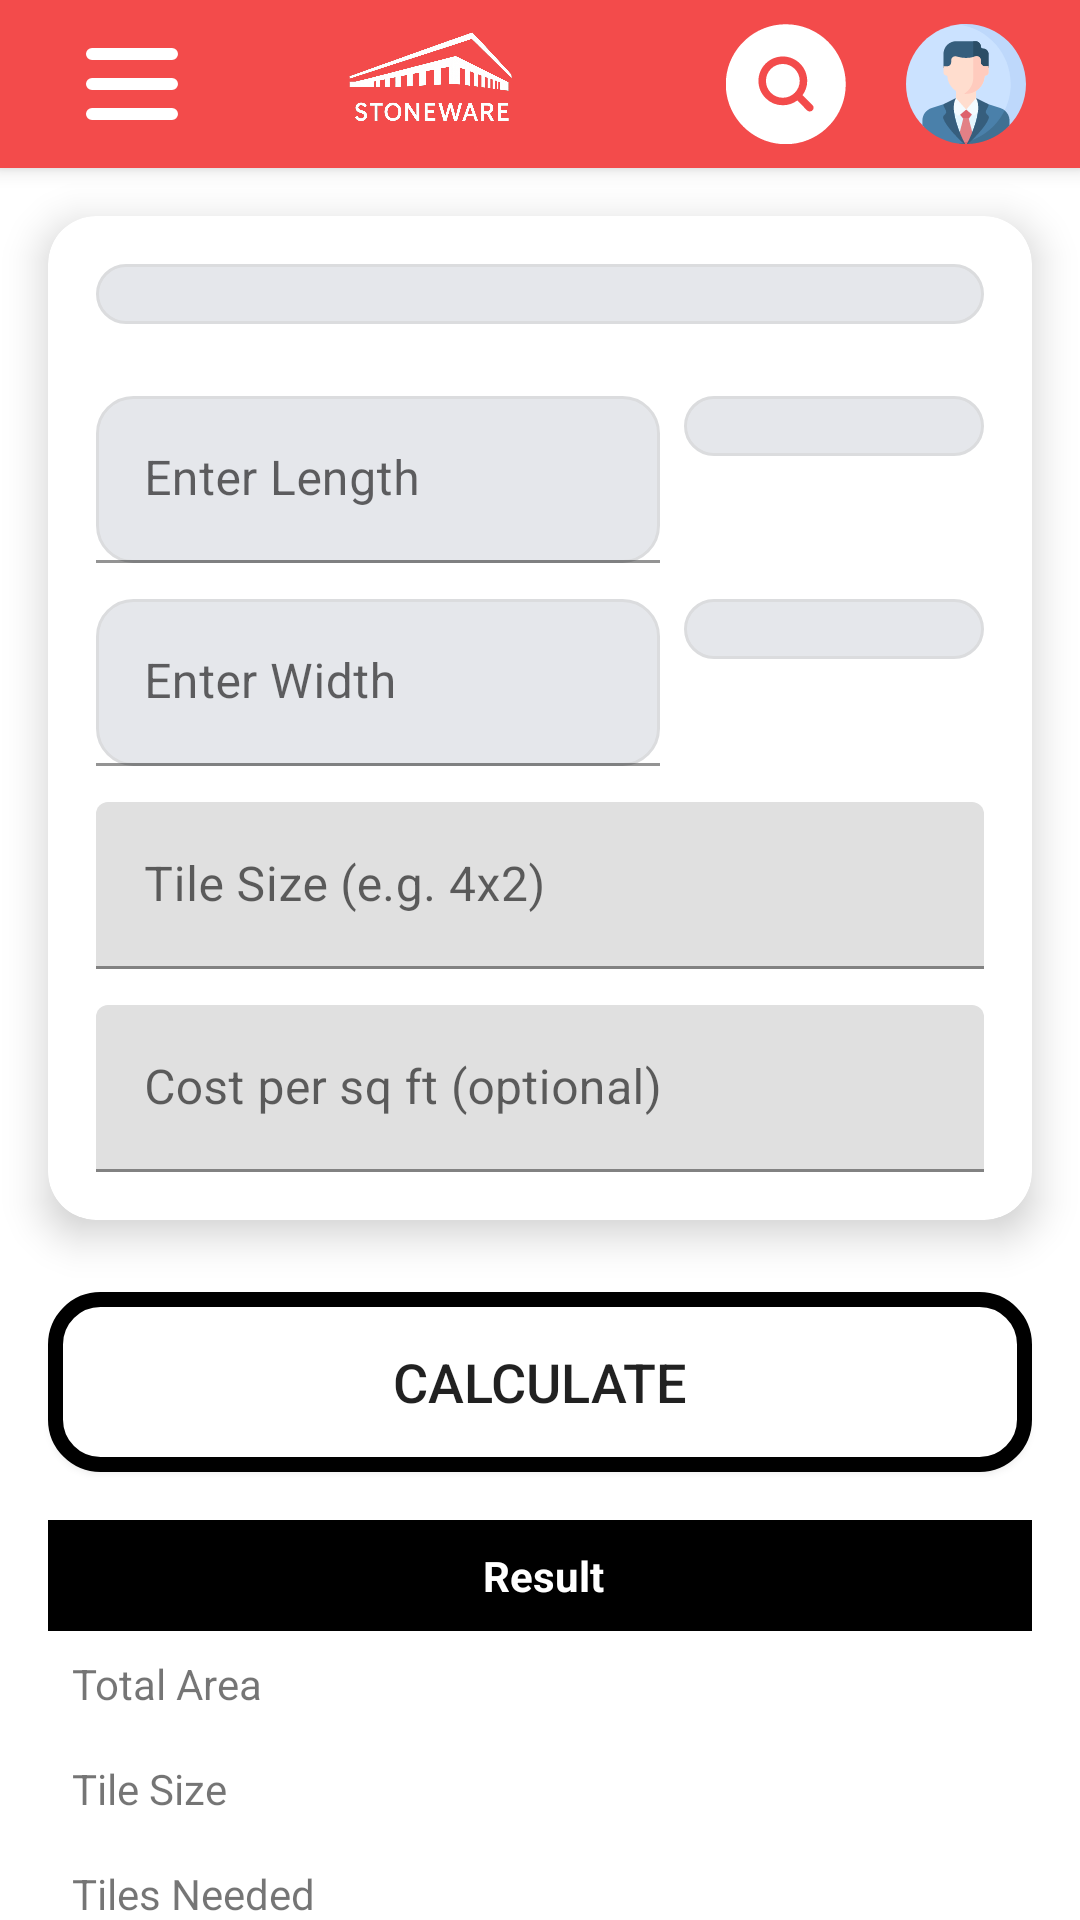

Icons on this 1080px x 1920px Android screen, each with its box as [x1, y1, x2, y2]:
Account: [906, 24, 1026, 144]
Menu: [86, 48, 178, 120]
Search: [726, 24, 846, 144]
